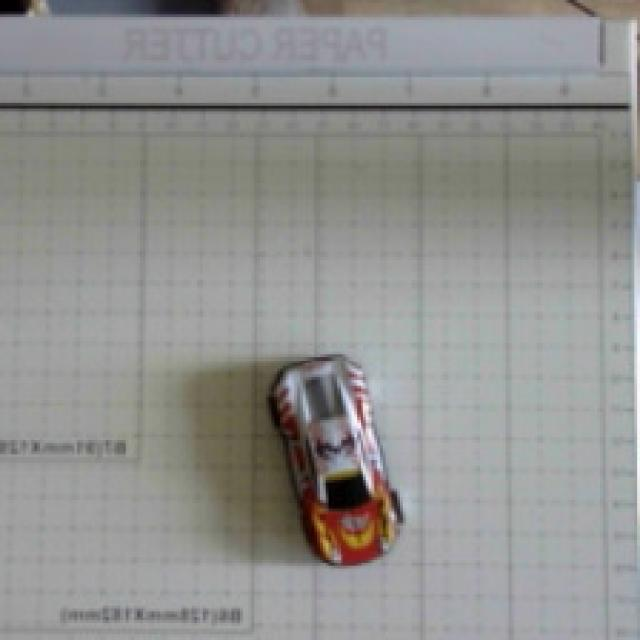Red Car: (243, 327, 507, 574)
